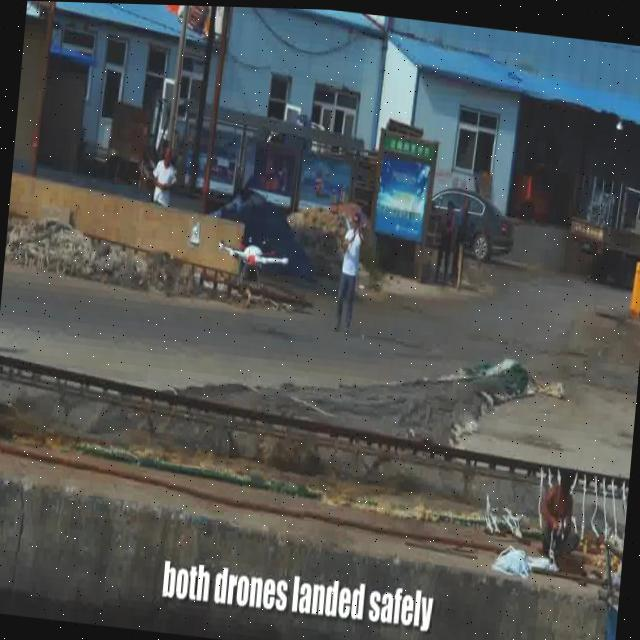drone: (212, 224, 292, 283)
